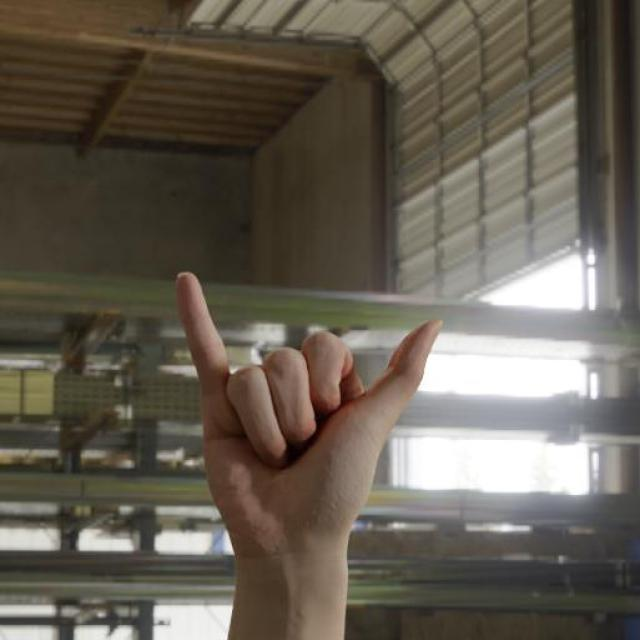Y: (169, 267, 449, 564)
